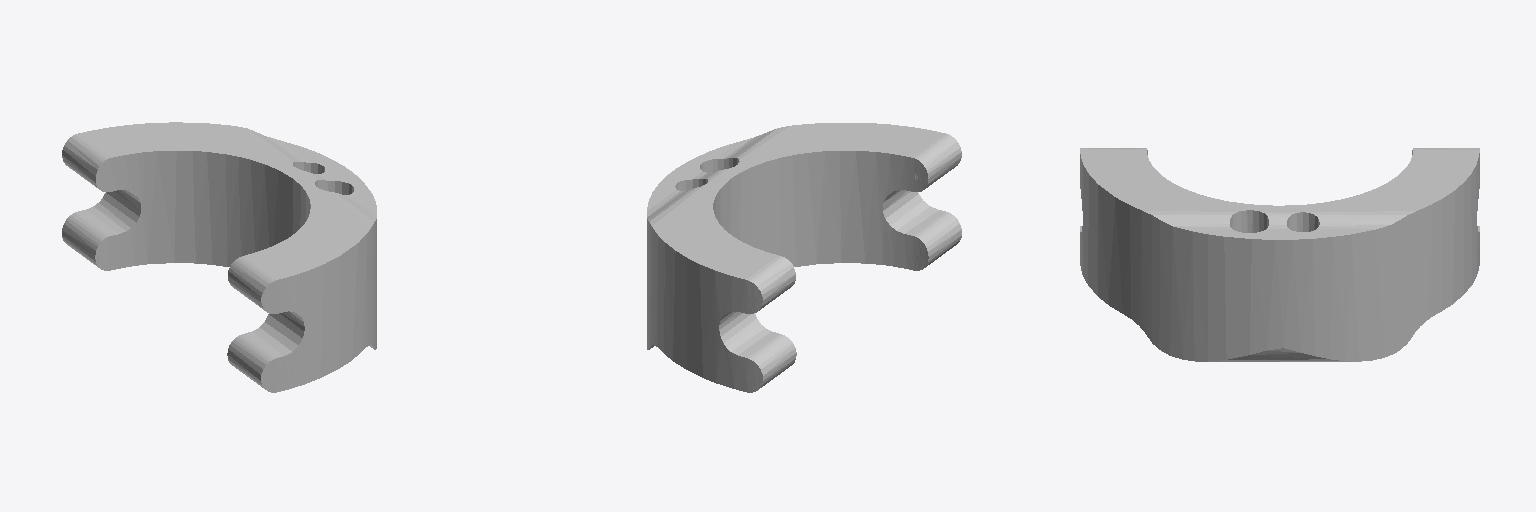
Rendered from seg4.OBJ.
The picture shows the model from 3 angles: view 1: azimuth 30°, elevation 25°; view 2: azimuth 150°, elevation 25°; view 3: azimuth 270°, elevation 25°; orthographic projection.
Parts seen in each view (by area): view 1: /ambf/env/seg4_seg4; view 2: /ambf/env/seg4_seg4; view 3: /ambf/env/seg4_seg4.
Boxes of the visible parts, box(x1,y1,x2,y2) form: /ambf/env/seg4_seg4: box(62, 122, 376, 392); /ambf/env/seg4_seg4: box(647, 123, 961, 392); /ambf/env/seg4_seg4: box(1080, 148, 1479, 361).
Size of the model in its own units: 0.0033 by 0.0023 by 0.006.